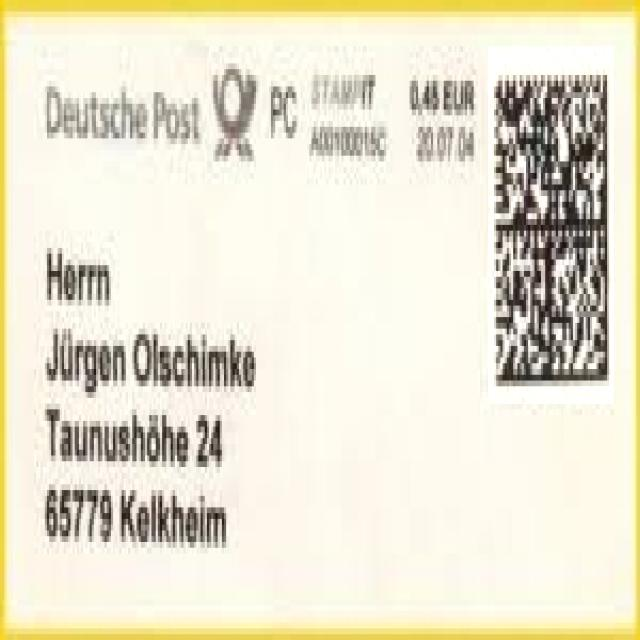DataMatrix: (489, 46, 615, 404)
